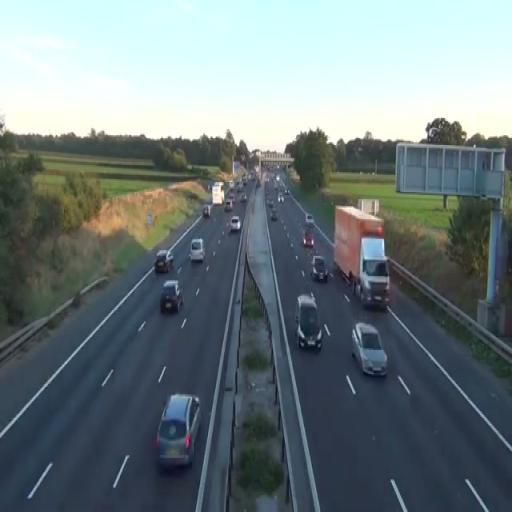Car: (154, 393, 202, 470), (351, 320, 388, 378), (294, 292, 324, 352), (160, 281, 182, 313), (311, 255, 328, 283), (154, 250, 173, 274), (190, 238, 204, 263), (230, 216, 240, 232)
Truck: (333, 205, 390, 311), (212, 182, 224, 206)
